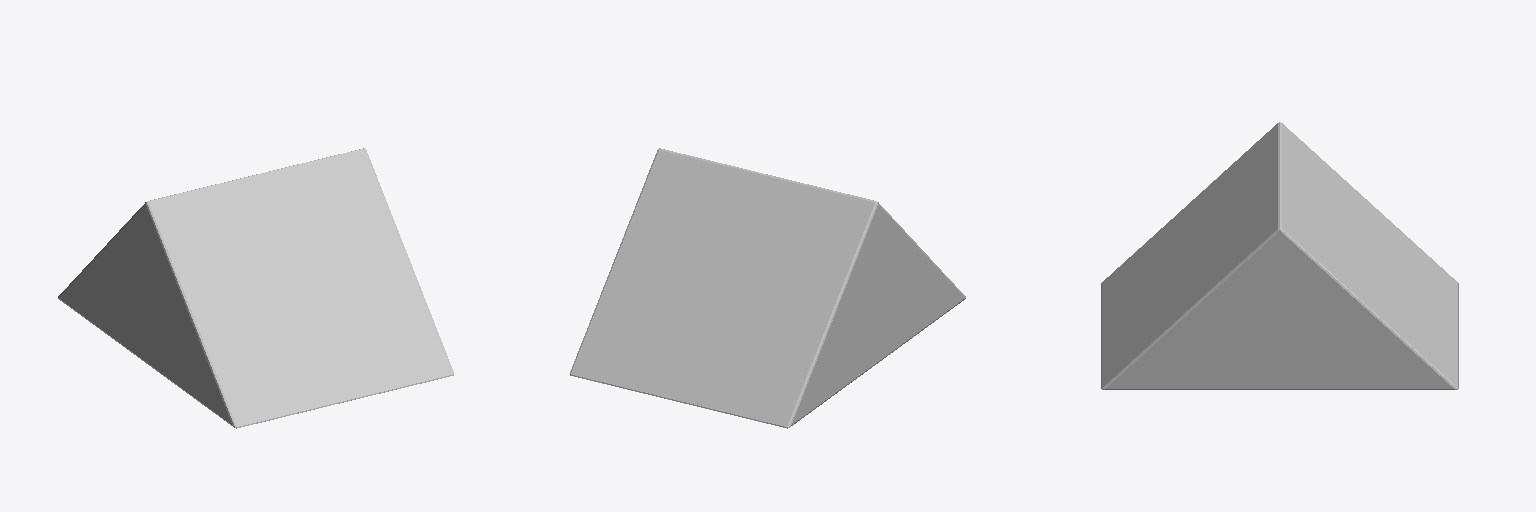
Rendered from Block6LOWTRIANGLE.obj.
3 renders of one model, left to right at view 1: azimuth 30°, elevation 25°; view 2: azimuth 150°, elevation 25°; view 3: azimuth 270°, elevation 25°, orthographic.
Visible parts, largest first — view 1: pCube1; view 2: pCube1; view 3: pCube1.
Boxes of the visible parts, x1,y1,x2,y2 form: pCube1: [58, 148, 453, 428]; pCube1: [570, 148, 965, 428]; pCube1: [1101, 122, 1458, 389].
Bounding box in the file's own units: 200 × 141 × 280.